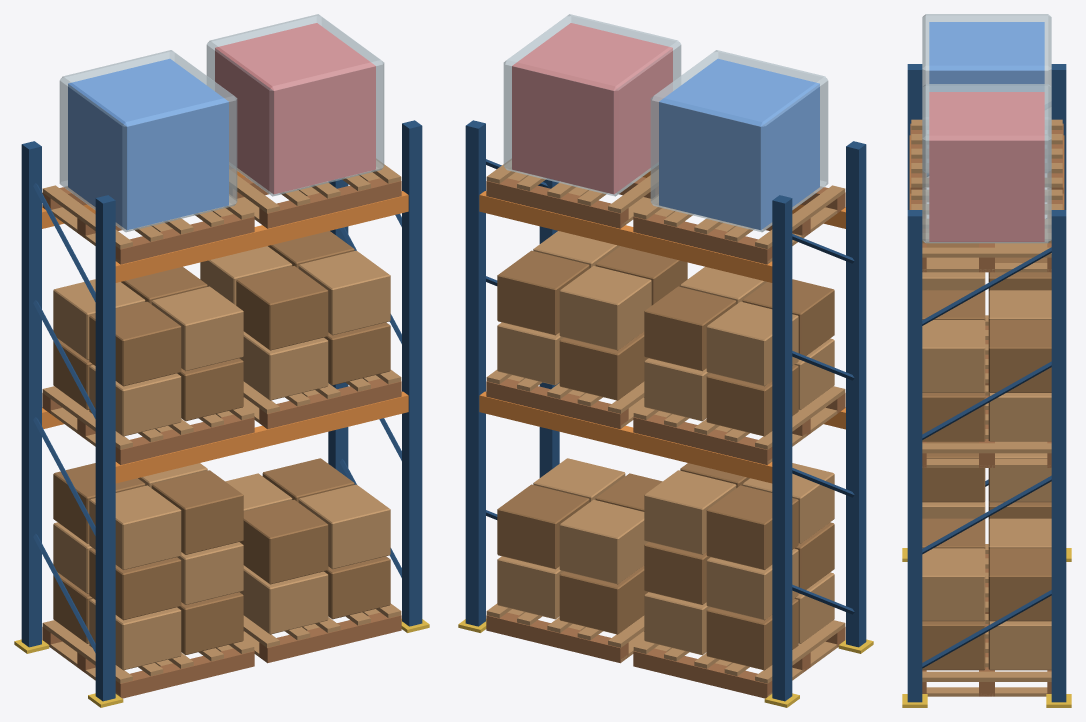
File: pallet_rack.glb
3 views of the same model, side by side, from view 1: azimuth 30°, elevation 25°; view 2: azimuth 150°, elevation 25°; view 3: azimuth 270°, elevation 25° (orthographic). The views are drawn at different scales.
Visible parts, largest first — view 1: pallet_rack; view 2: pallet_rack; view 3: pallet_rack.
Part boxes in pixels (box(x1,y1,x2,y2)): pallet_rack: box(14, 14, 429, 707); pallet_rack: box(458, 14, 873, 707); pallet_rack: box(902, 14, 1071, 707).
Size of the model in its own units: 2.06 by 3.4 by 0.94.
